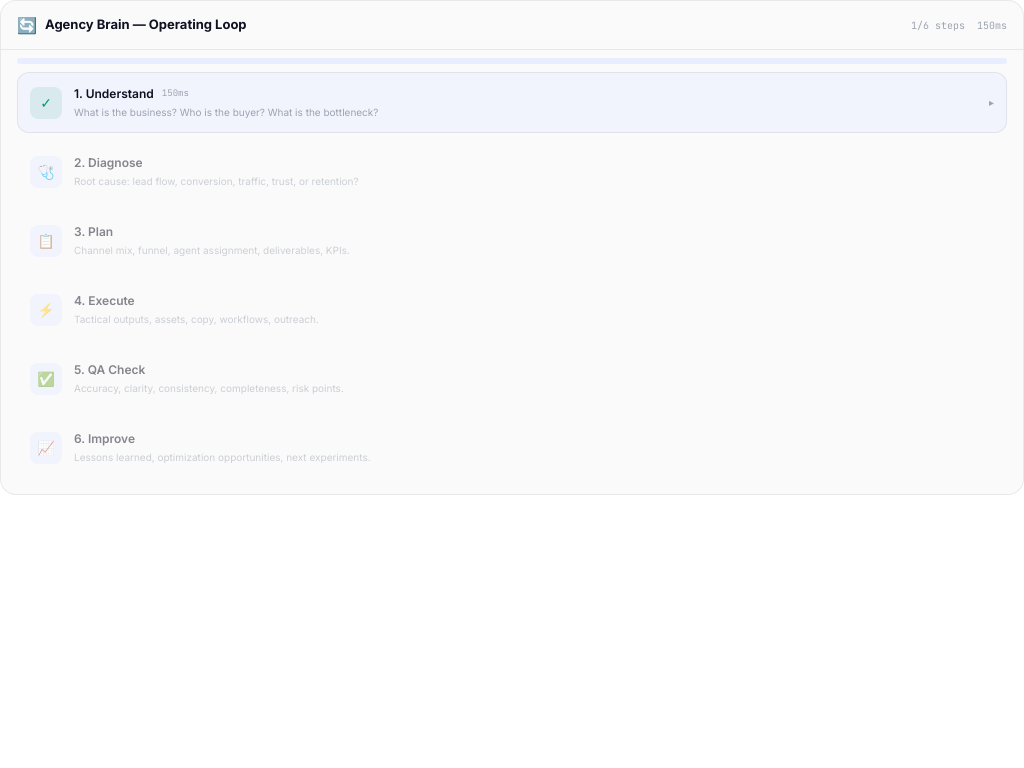
Test: OperatingLoopDashboard › step expand/collapse › collapses step output when clicked again
Click the button "1. Understand" at x=46, y=102, box top-left (17, 72), bottom-right (1007, 133)
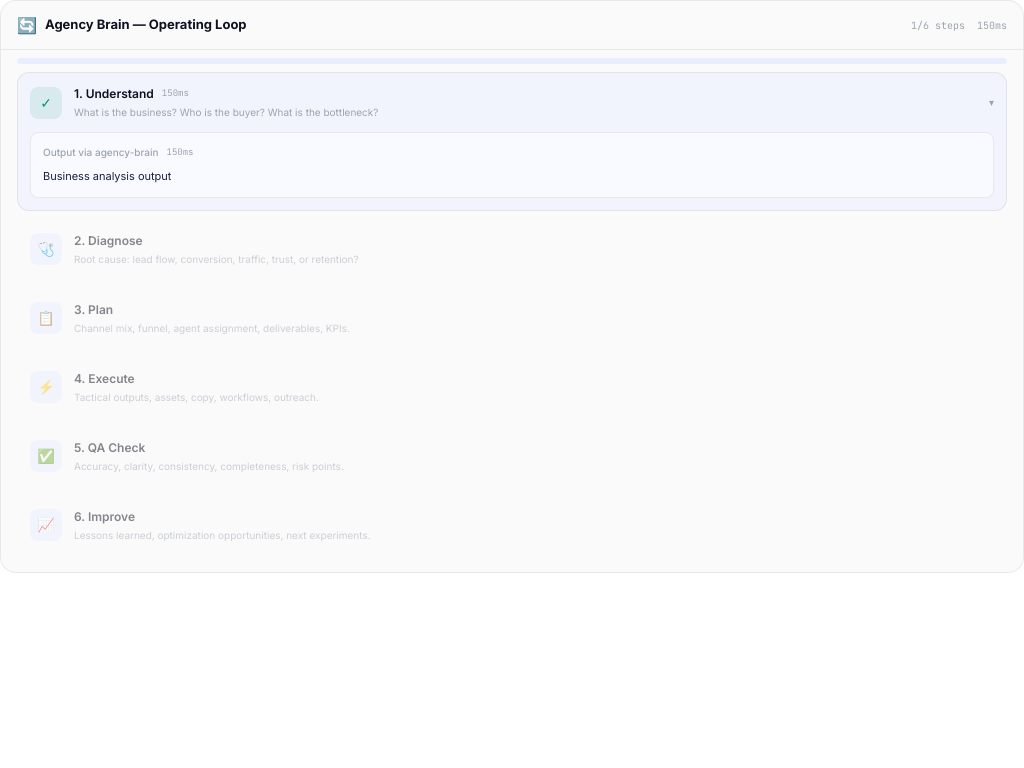
Click the button "1. Understand" at x=512, y=141, box top-left (17, 72), bottom-right (1007, 210)
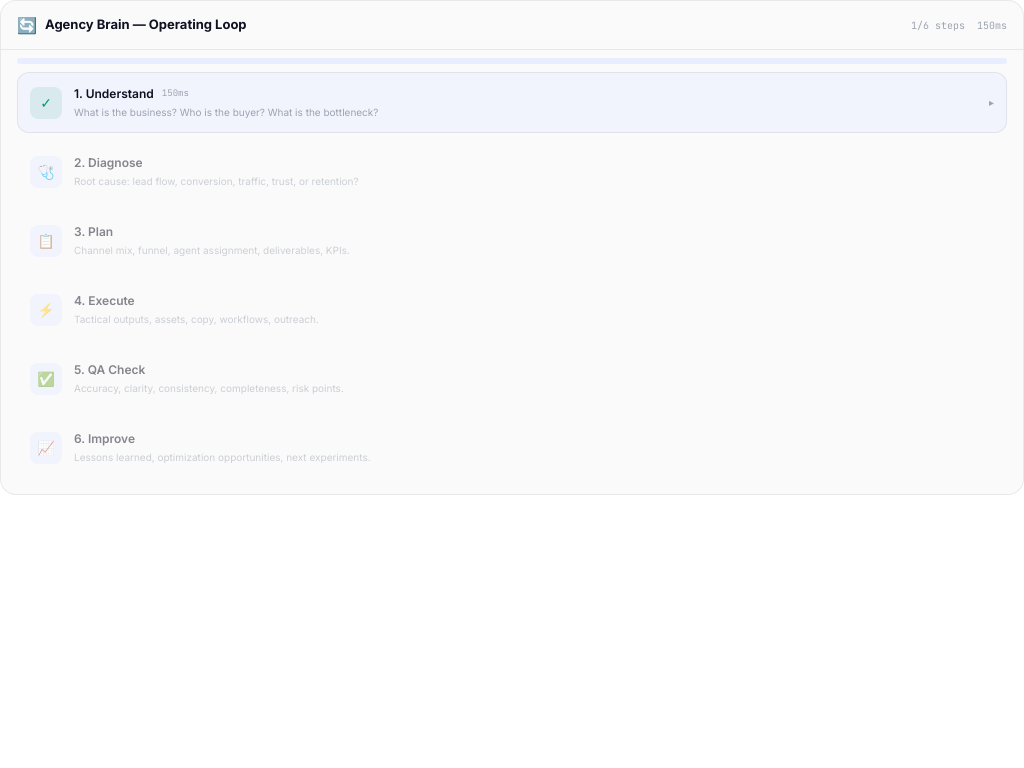
Check: the text "Business analysis output" is gone
